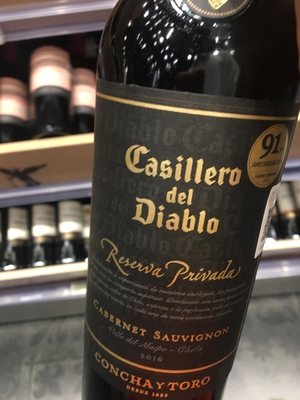casillero del diablo reserva privada cabernet sauvignon: (87, 14, 300, 389)
